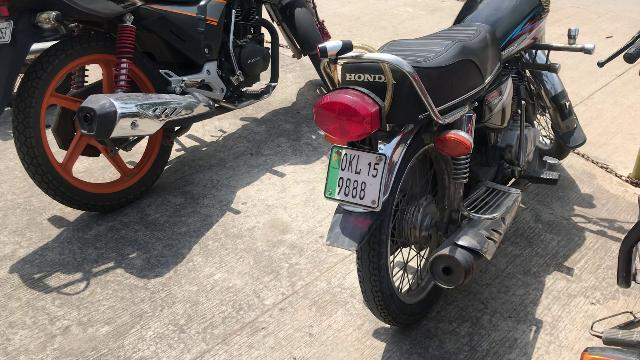plate: (324, 144, 388, 210)
